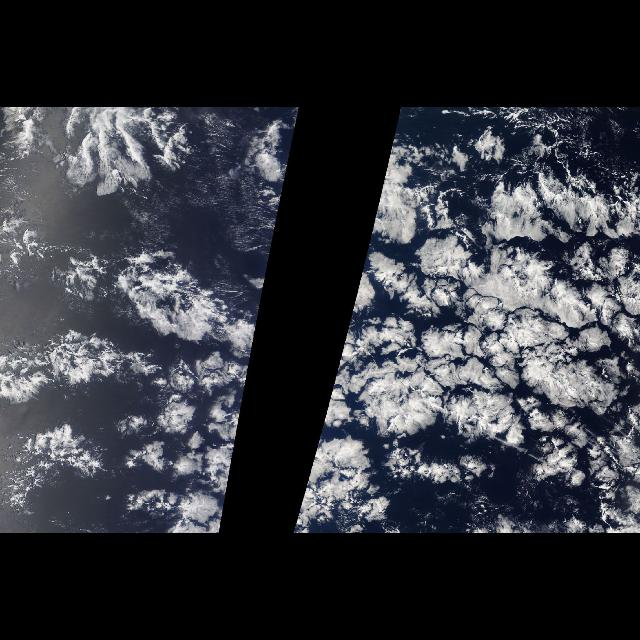Flower: (290, 141, 640, 533), (30, 141, 294, 533)
